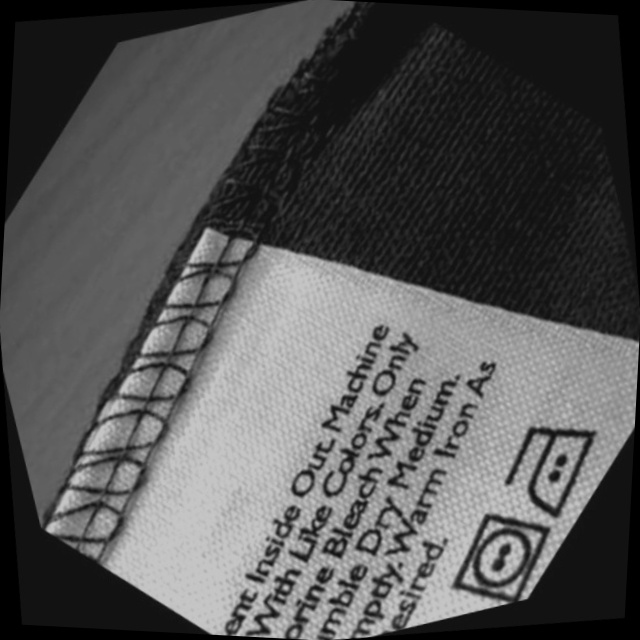iron_medium: (488, 402, 627, 532)
tumble_dry_medium: (433, 493, 575, 621)
